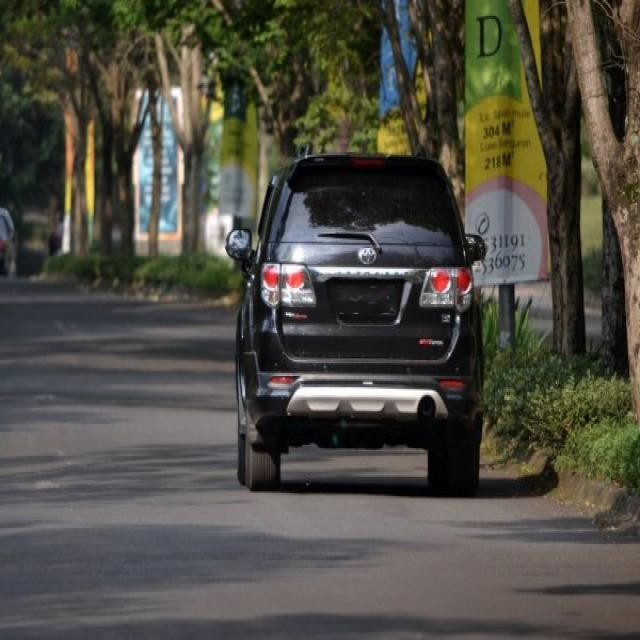car: (225, 153, 489, 492)
